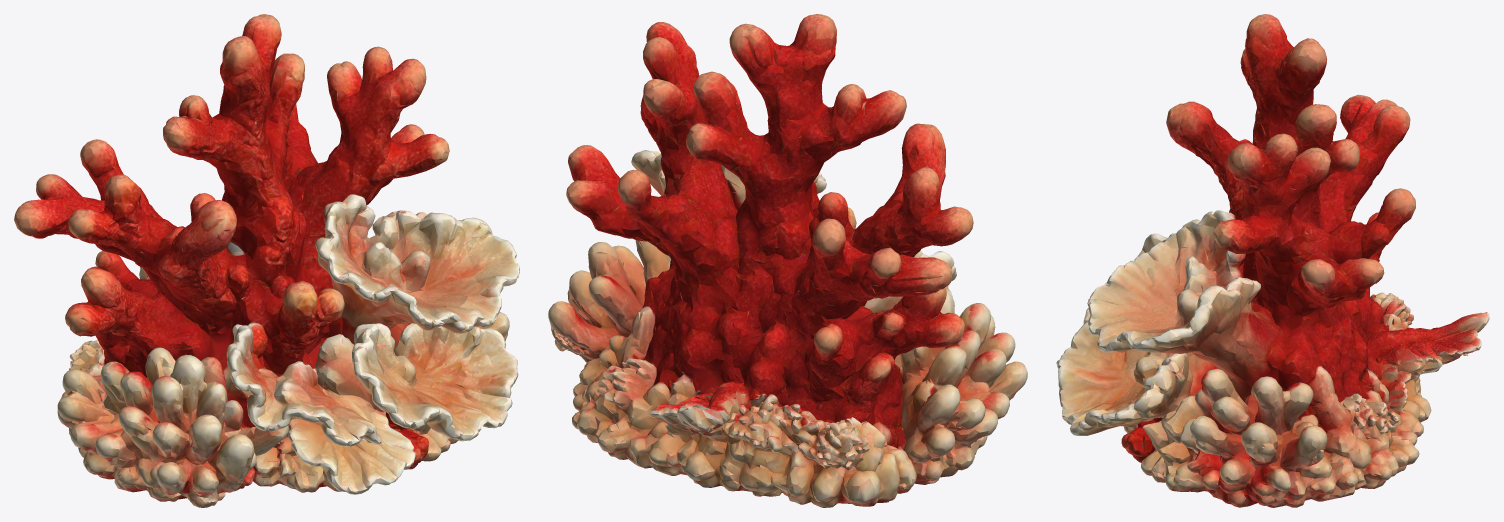
File: upm_mv3pqknr7lf.glb
The picture shows the model from 3 angles, left to right: view 1: azimuth 30°, elevation 25°; view 2: azimuth 150°, elevation 25°; view 3: azimuth 270°, elevation 25°; orthographic projection. The views are drawn at different scales.
Bounding box in the file's own units: 1.9 × 1.77 × 1.75.
Materials: 1 (1 with a texture image).
